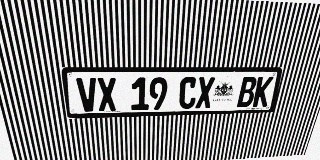1: (131, 77, 149, 110)
9: (149, 77, 168, 110)
B: (237, 77, 258, 107)
C: (178, 77, 198, 109)
K: (252, 76, 274, 107)
V: (76, 78, 98, 112)
X: (96, 78, 117, 111), (195, 77, 215, 108)
